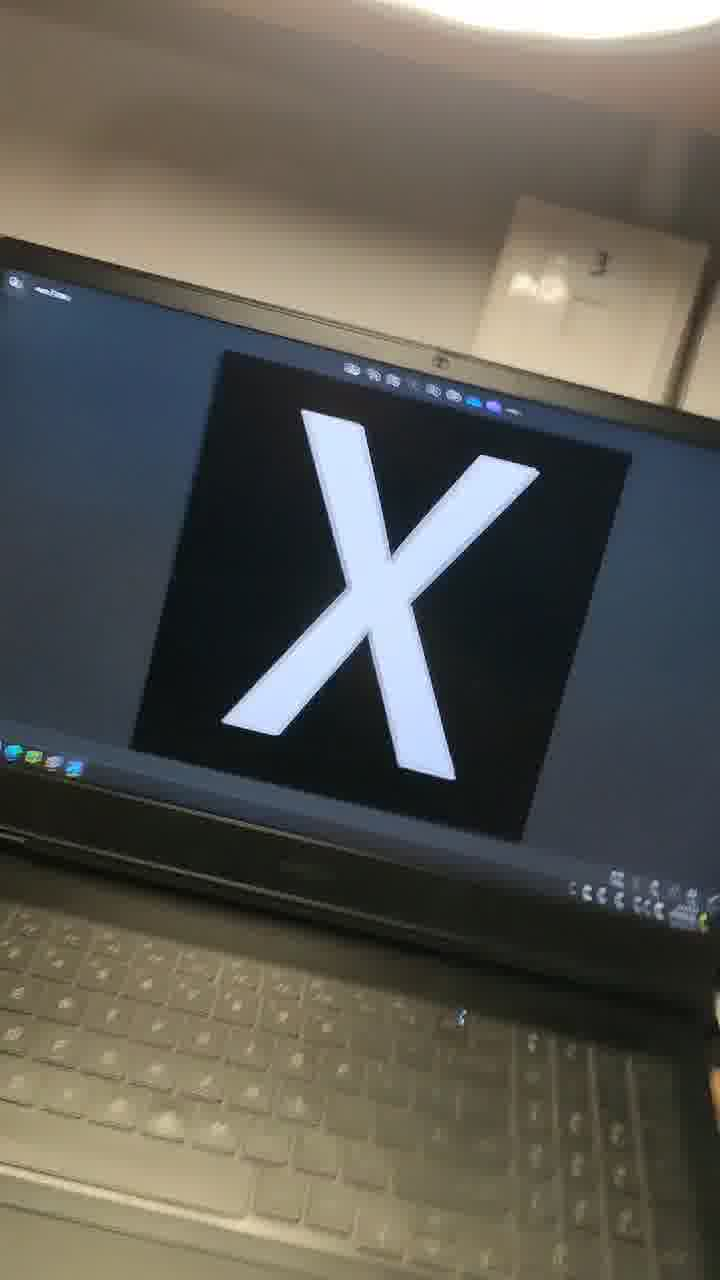X: (184, 304, 563, 823)
